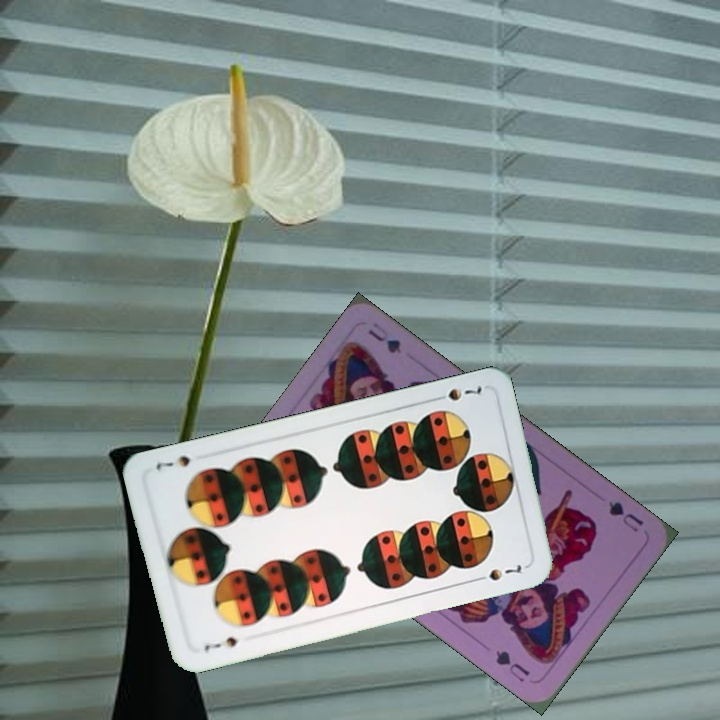GU: (604, 496, 647, 535)
S7: (428, 382, 485, 404), (200, 632, 240, 654)
